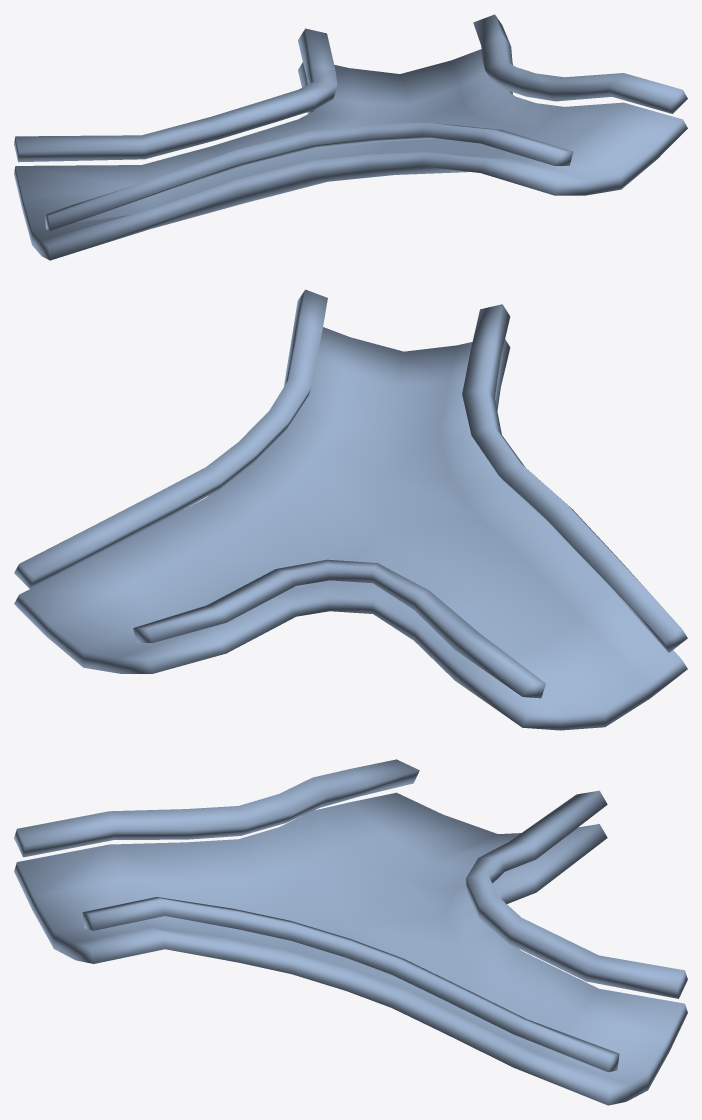
File: junRoadTeeSlope2p5.fbx
3 views of the same model, one above another, from view 1: azimuth 30°, elevation 25°; view 2: azimuth 150°, elevation 25°; view 3: azimuth 270°, elevation 25° (orthographic). The views are drawn at different scales.
Parts seen in each view (by area): view 1: junRoadTeeSlope2p5_LOD0, junRoadTeeSlope2p5_edge_LOD0; view 2: junRoadTeeSlope2p5_LOD0, junRoadTeeSlope2p5_edge_LOD0; view 3: junRoadTeeSlope2p5_LOD0, junRoadTeeSlope2p5_edge_LOD0.
Boxes of the visible parts, <box> form: junRoadTeeSlope2p5_LOD0: <box>14,49,687,260</box>; junRoadTeeSlope2p5_edge_LOD0: <box>14,14,687,230</box>; junRoadTeeSlope2p5_LOD0: <box>14,327,687,730</box>; junRoadTeeSlope2p5_edge_LOD0: <box>14,289,687,698</box>; junRoadTeeSlope2p5_LOD0: <box>14,792,687,1105</box>; junRoadTeeSlope2p5_edge_LOD0: <box>14,759,687,1072</box>.
Size of the model in its own units: 972 by 293 by 918.
